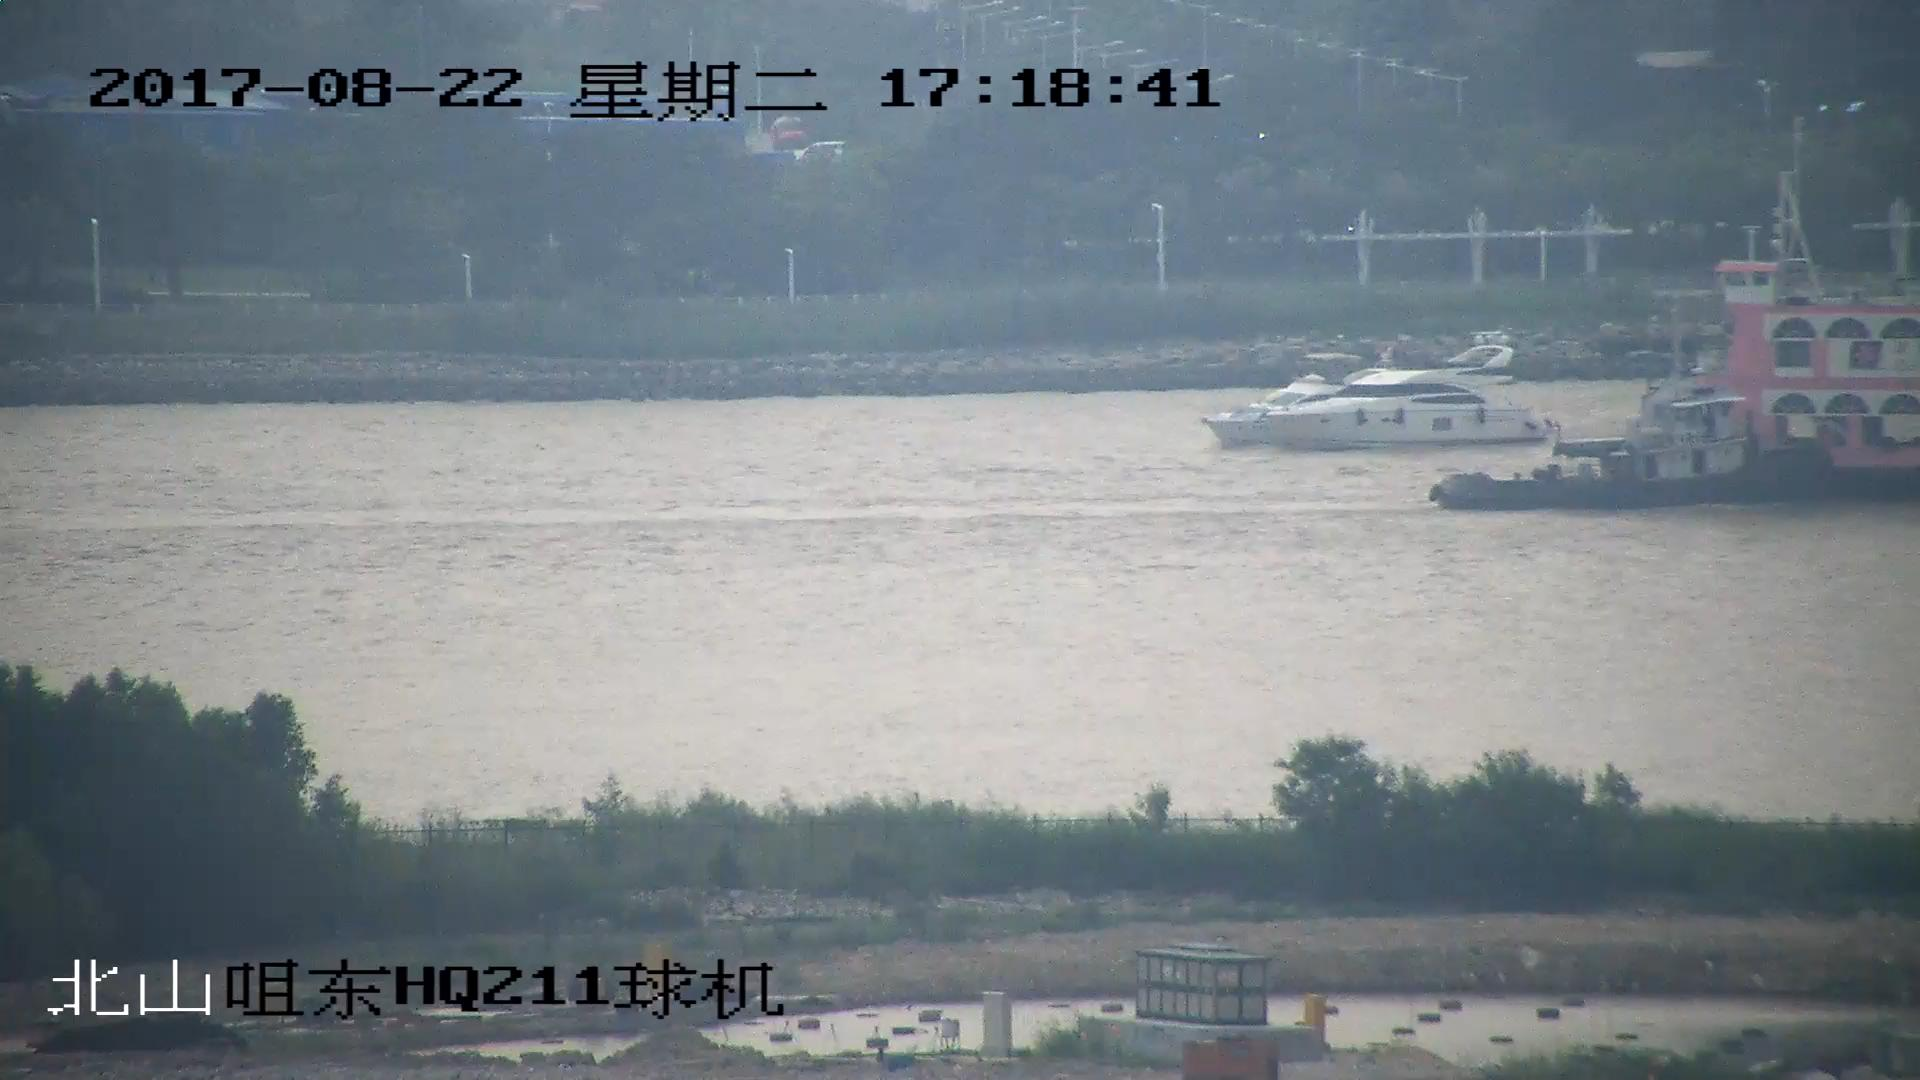fishing boat: (1433, 369, 1833, 503)
passenger ship: (1605, 136, 1920, 497), (1205, 346, 1549, 446)
